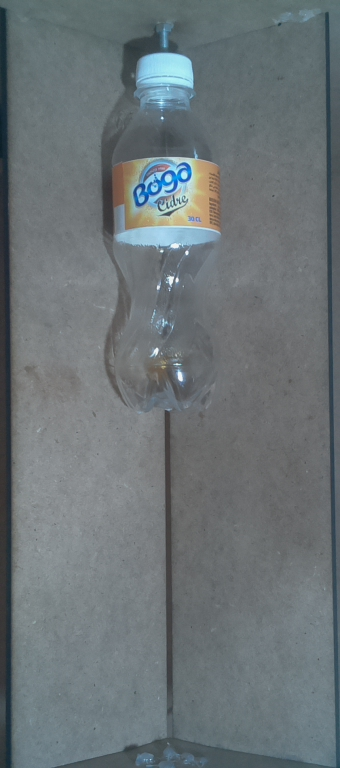Bouteille_0.3L: (98, 44, 239, 426)
